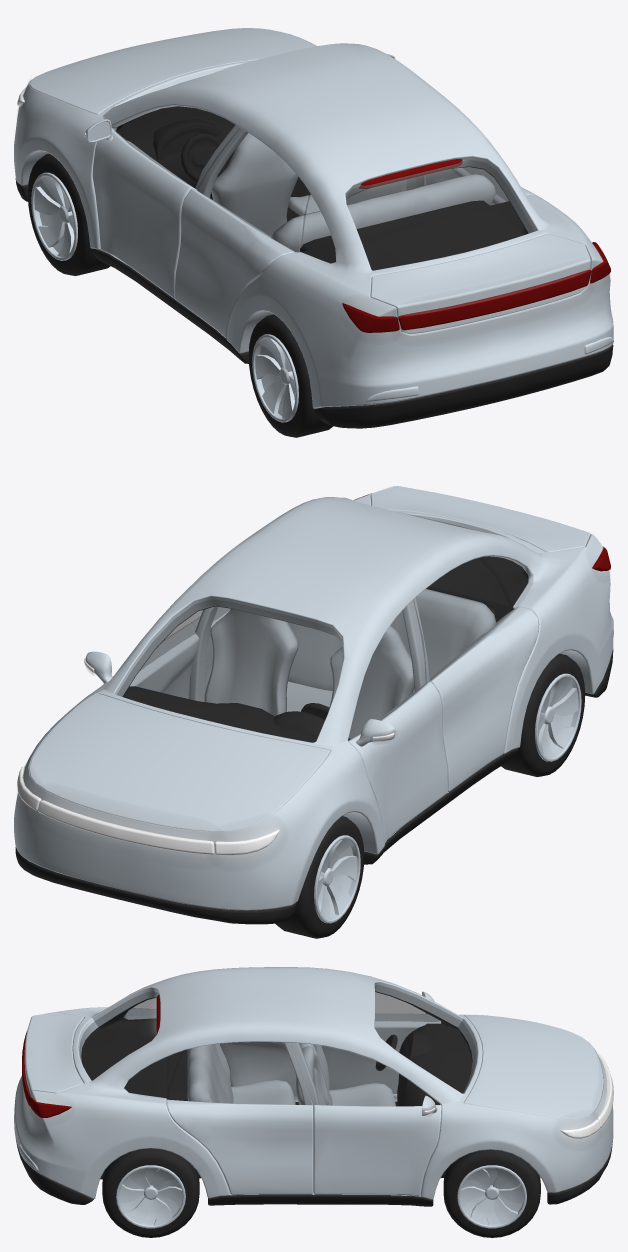
The model's file is ego_car.glb.
3 views of the same model, one above another, from view 1: azimuth 30°, elevation 25°; view 2: azimuth 150°, elevation 25°; view 3: azimuth 270°, elevation 25° (orthographic). The views are drawn at different scales.
Visible parts, largest first — view 1: body, doors_back-left, doors_front-left, window_back, trunk, hood, wheels_back-left, wheels_front-left, lights_brakes_volume, quarter_window-left, doors_back-right, lights-brakes_turn-left_volume (+1 smaller); view 2: body, hood, window_front, doors_back-left, doors_front-left, wheels_back-left, wheels_front-left, trunk, doors_front-right, lights_front_volume, lights-front_turn-left_volume, quarter_window-left; view 3: body, doors_back-right, doors_front-right, hood, wheels_back-right, wheels_front-right, window_front, trunk, doors_front-left, window_back, doors_back-left, quarter_window-right (+4 smaller).
Part boxes in pixels (x1,y1,x2,y2): body: [14, 33, 613, 428]; doors_back-left: [175, 128, 309, 338]; doors_front-left: [84, 107, 239, 298]; window_back: [346, 160, 534, 270]; trunk: [370, 233, 591, 334]; hood: [29, 28, 315, 114]; wheels_back-left: [248, 314, 333, 437]; wheels_front-left: [27, 153, 110, 275]; lights_brakes_volume: [397, 266, 591, 338]; quarter_window-left: [301, 193, 335, 263]; doors_back-right: [425, 167, 536, 205]; lights-brakes_turn-left_volume: [342, 300, 399, 338]; body: [14, 486, 613, 924]; hood: [29, 693, 330, 831]; window_front: [117, 599, 343, 742]; doors_back-left: [414, 557, 539, 791]; doors_front-left: [348, 600, 447, 843]; wheels_back-left: [501, 653, 585, 776]; wheels_front-left: [275, 816, 364, 938]; trunk: [370, 486, 590, 552]; doors_front-right: [84, 609, 205, 698]; lights_front_volume: [37, 792, 218, 862]; lights-front_turn-left_volume: [213, 822, 282, 864]; quarter_window-left: [479, 556, 528, 605]; body: [14, 967, 613, 1206]; doors_back-right: [166, 1042, 313, 1195]; doors_front-right: [290, 1043, 441, 1196]; hood: [464, 1015, 603, 1119]; wheels_back-right: [102, 1148, 199, 1237]; wheels_front-right: [443, 1149, 540, 1237]; window_front: [375, 985, 475, 1093]; trunk: [22, 1012, 83, 1107]; doors_front-left: [321, 991, 440, 1093]; window_back: [79, 991, 158, 1080]; doors_back-left: [219, 1042, 296, 1096]; quarter_window-right: [124, 1051, 182, 1097].
Bounding box in the file's own units: 1.63 × 1.23 × 3.43.
28 materials, 9 textured.
